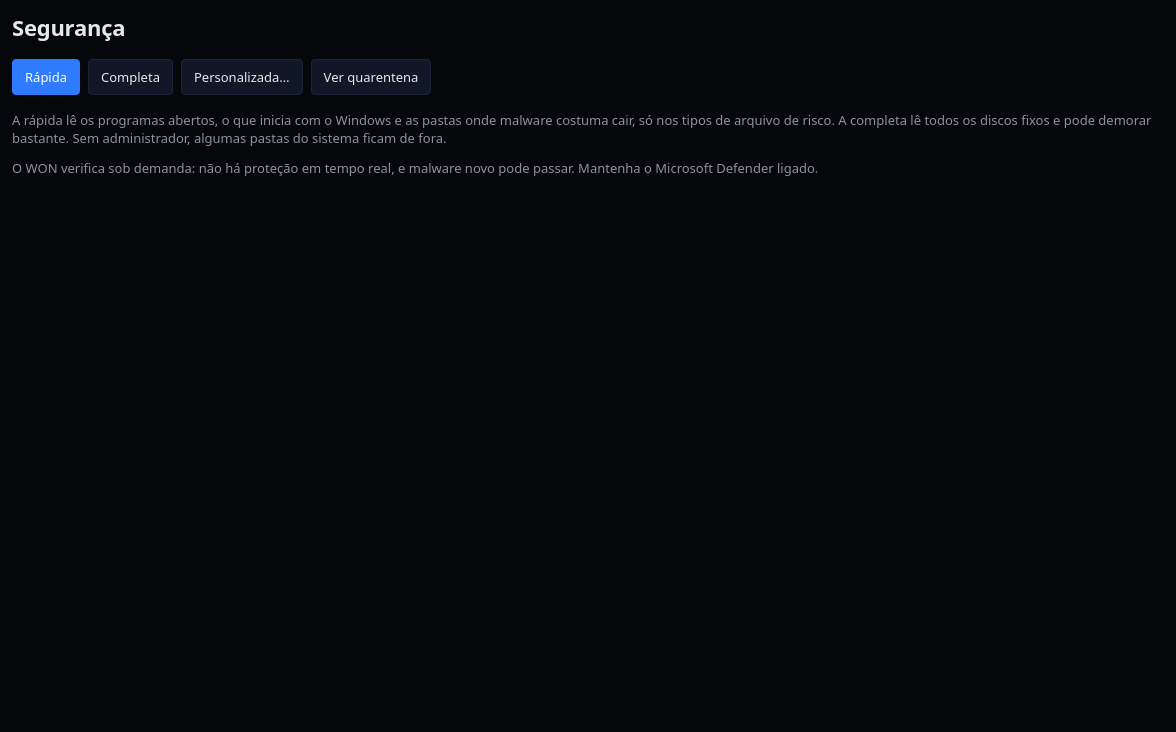
Segurança › mostra achados por nível, o porquê, e as pastas puladas
The width and height of the screenshot is (1176, 732).
Click the button "Rápida" at [46, 77], box [12, 59, 80, 95]
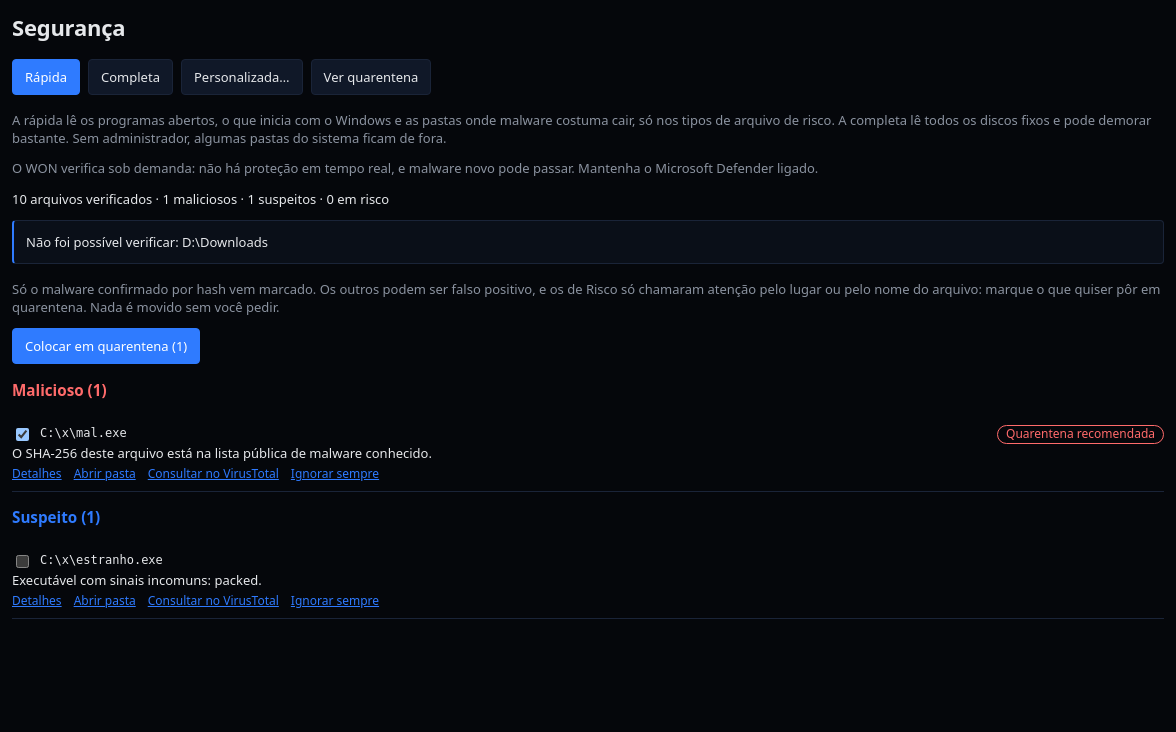
expect the list item "lista pública de malware conhecido" is shown: met, box [12, 444, 432, 462]
expect the list item "Executável com sinais incomuns: packed." is shown: met, box [12, 571, 262, 589]
expect the text "Não foi possível verificar: D:\\Downloads" is shown: met, box [12, 220, 1164, 264]
